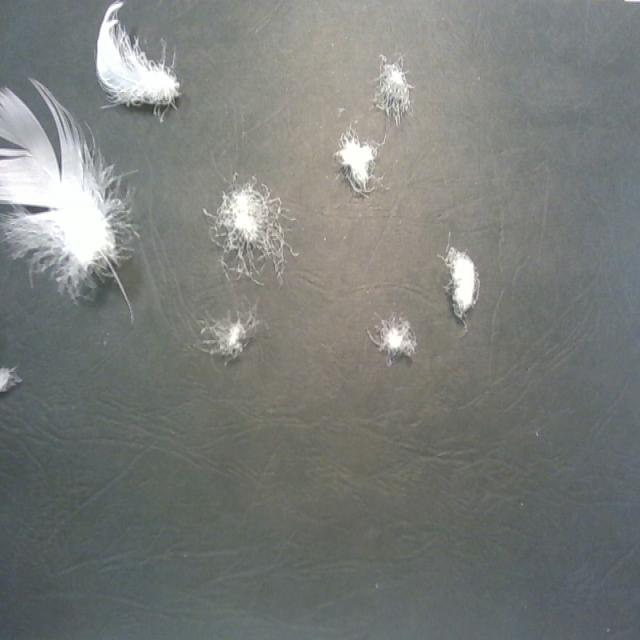feather: (0, 73, 139, 303), (201, 169, 302, 283), (92, 1, 185, 124), (195, 298, 260, 362), (332, 121, 383, 195), (439, 240, 480, 325), (366, 308, 417, 365), (371, 54, 413, 122), (0, 363, 18, 393)
